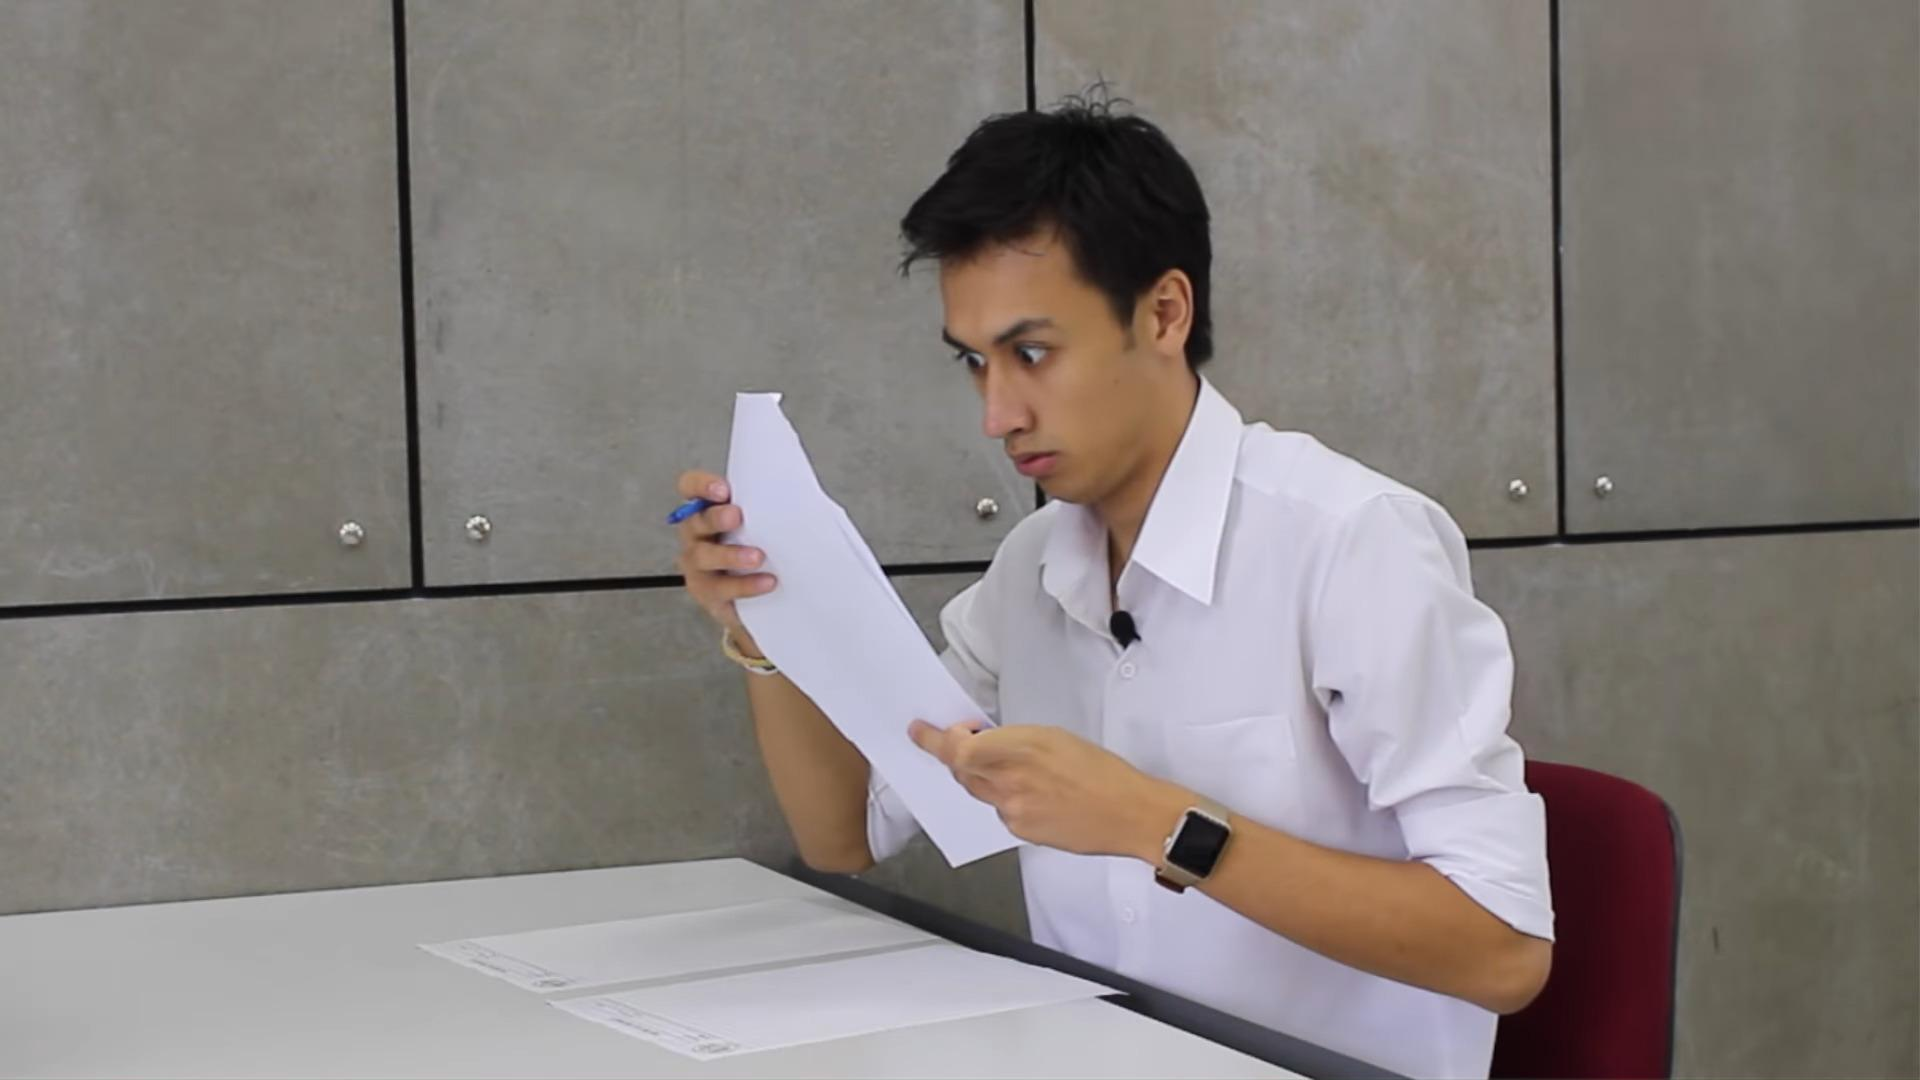good: (360, 94, 1581, 1080)
